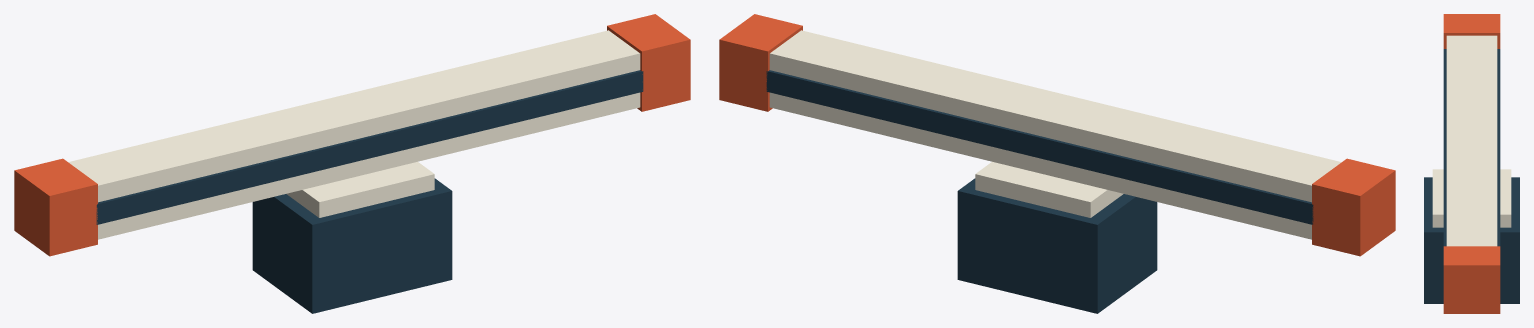
The model's file is radar_tower_scanner.glb.
3 renders of one model, left to right at view 1: azimuth 30°, elevation 25°; view 2: azimuth 150°, elevation 25°; view 3: azimuth 270°, elevation 25°, orthographic. The views are drawn at different scales.
Parts seen in each view (by area): view 1: radar_tower_scanner; view 2: radar_tower_scanner; view 3: radar_tower_scanner.
Boxes of the visible parts, box(x1,y1,x2,y2) form: radar_tower_scanner: box(14, 14, 690, 313); radar_tower_scanner: box(719, 14, 1395, 313); radar_tower_scanner: box(1424, 14, 1519, 313).
Bounding box in the file's own units: 4.22 × 1.07 × 0.68.
